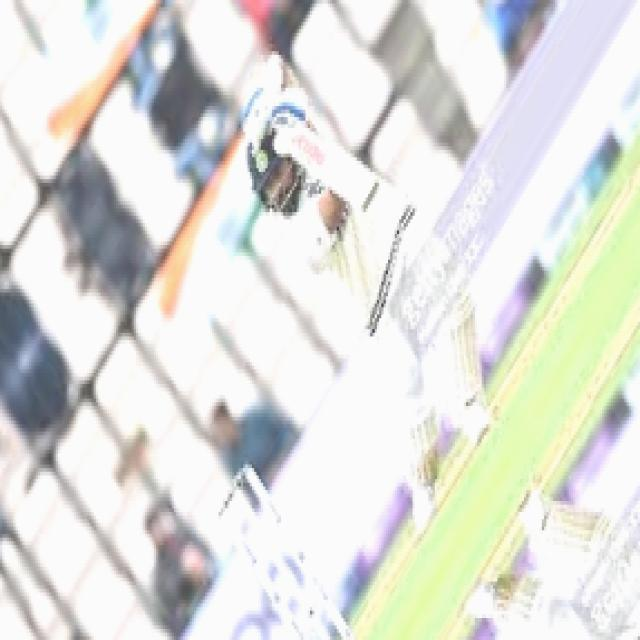bat: (260, 111, 392, 216)
toe: (359, 179, 380, 210)
